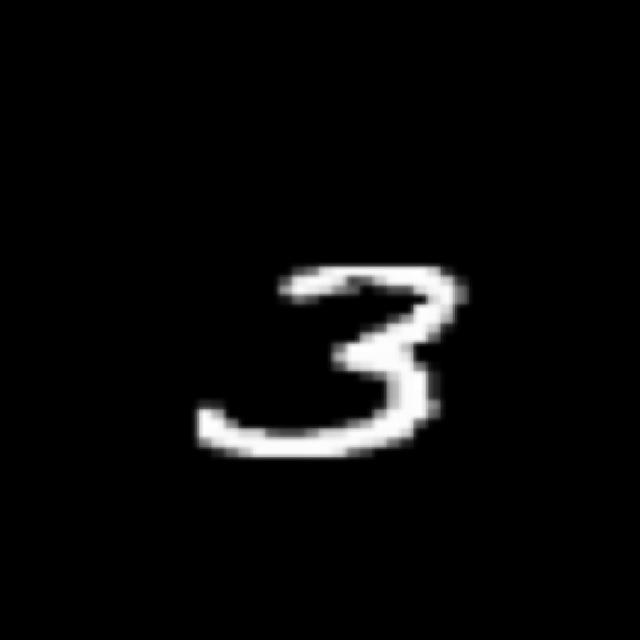three -3-: (183, 254, 476, 471)
